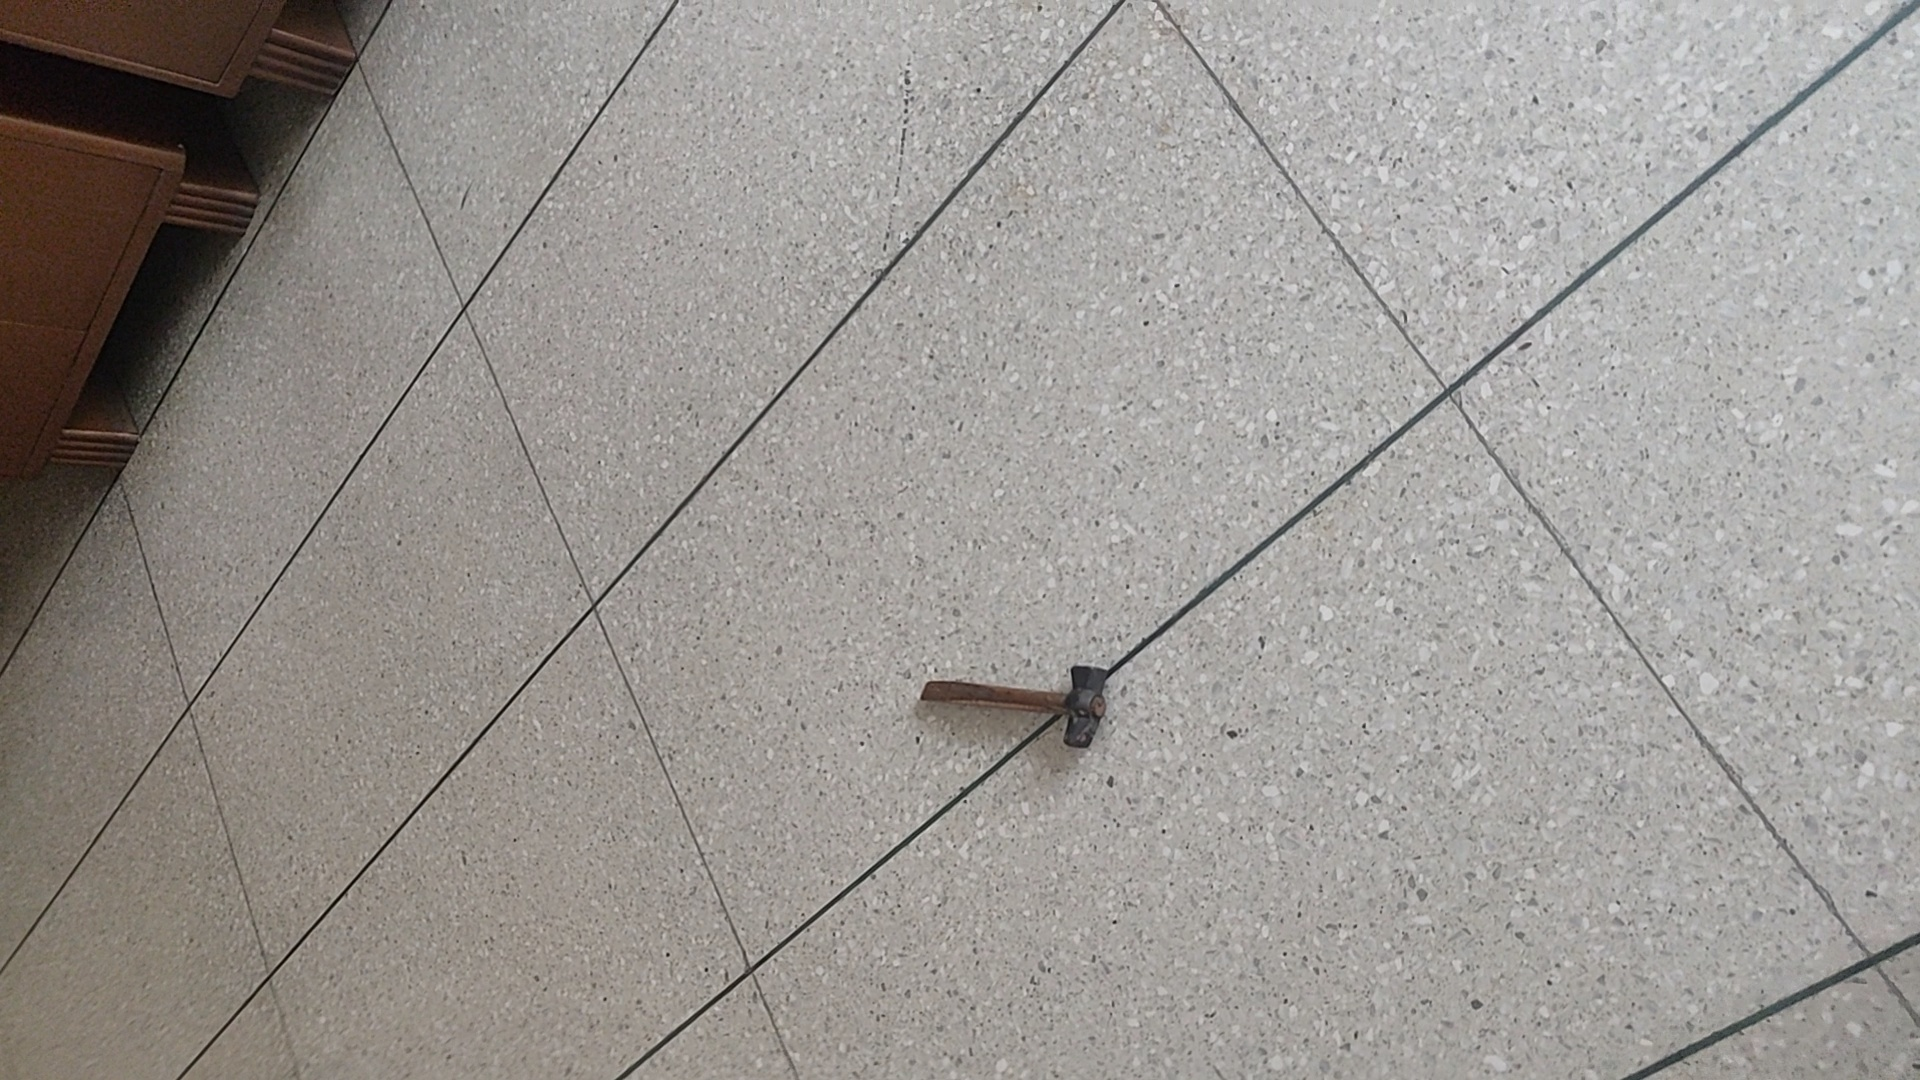hammer: (916, 655, 1118, 754)
